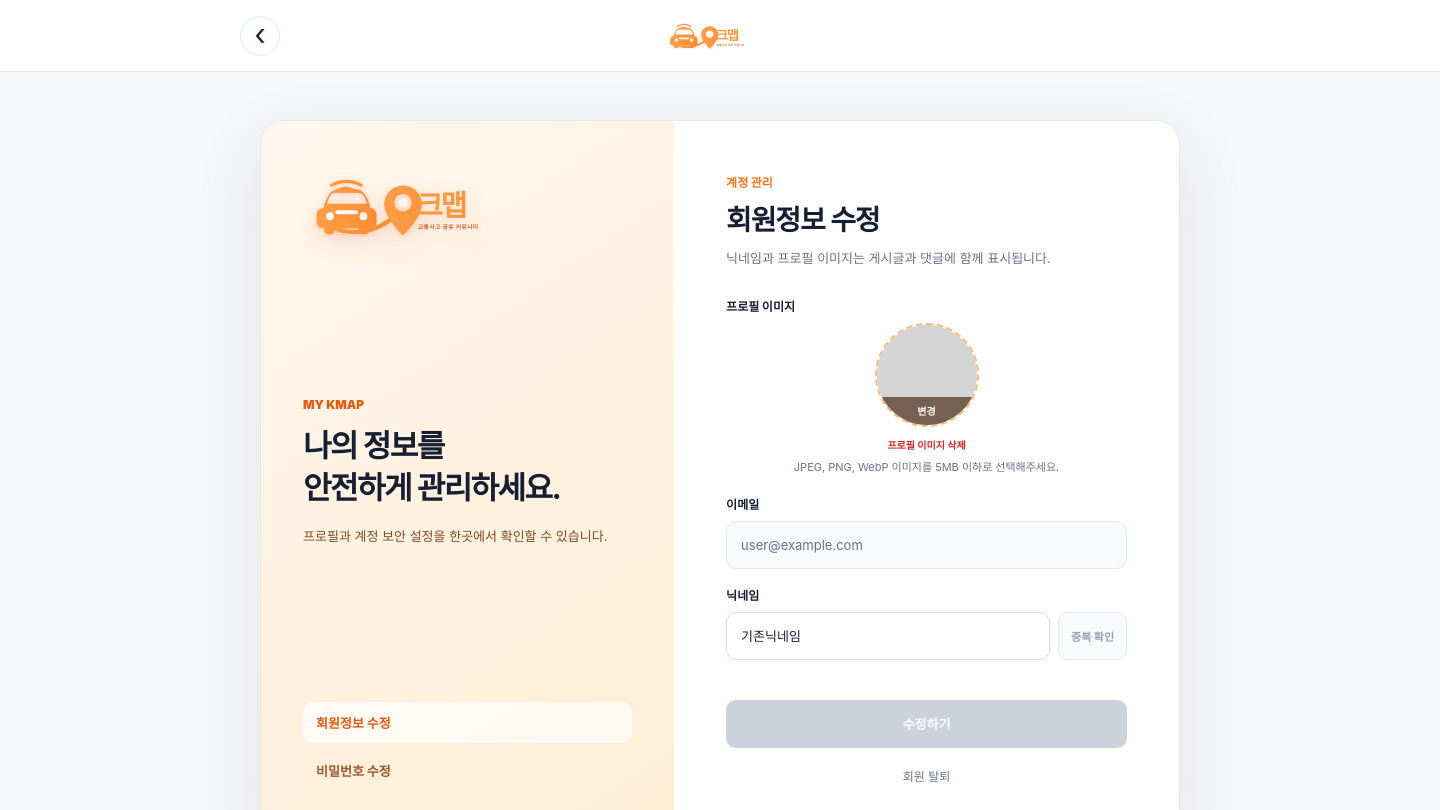
ProfileSettingsPage › 중복 확인 없이 폼을 제출하면 확인 안내를 표시한다
Replace the text in the field labelled "닉네임" with "확인필요" at (888, 636), box [726,612,1050,660]
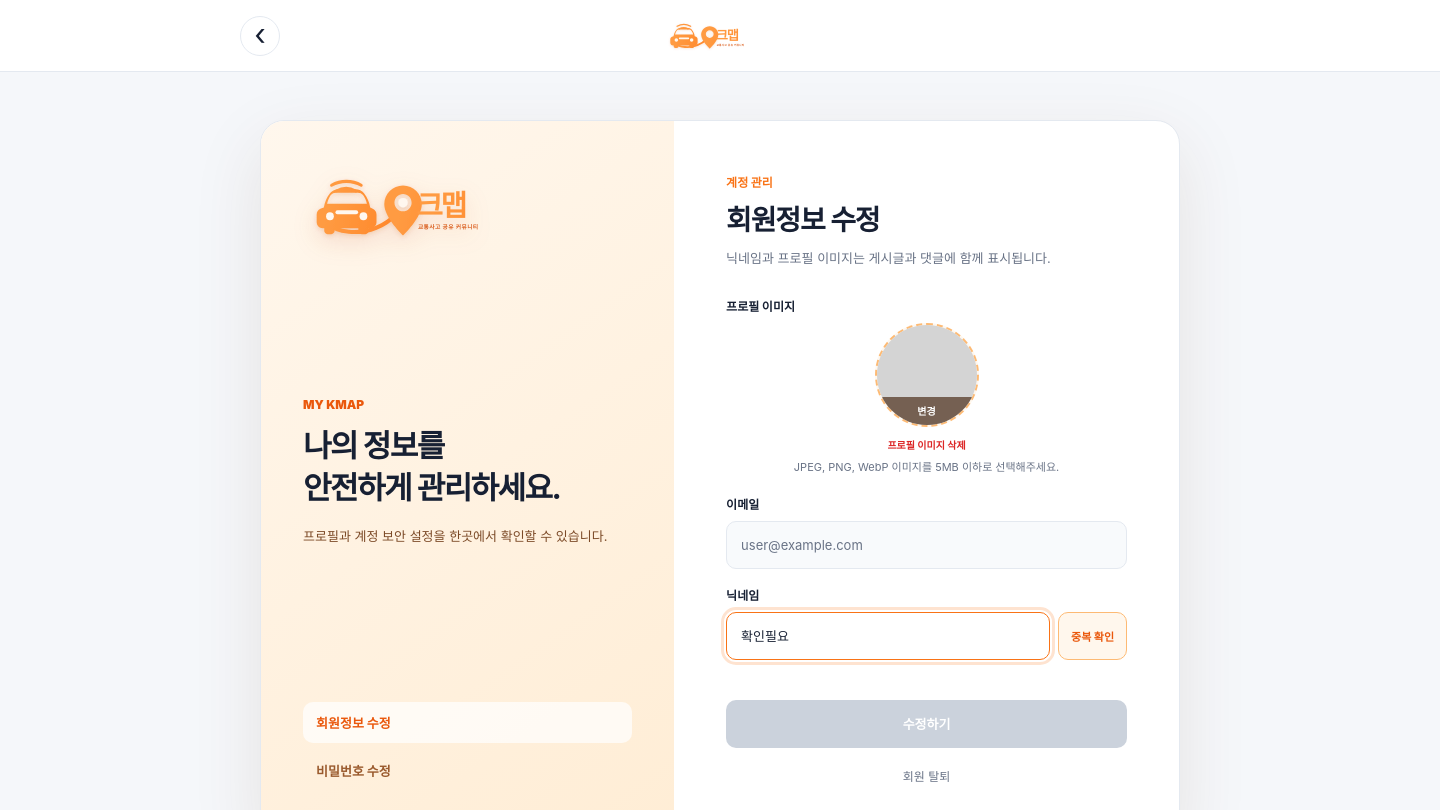
Submit the form named "닉네임", box [726,297,1127,748]
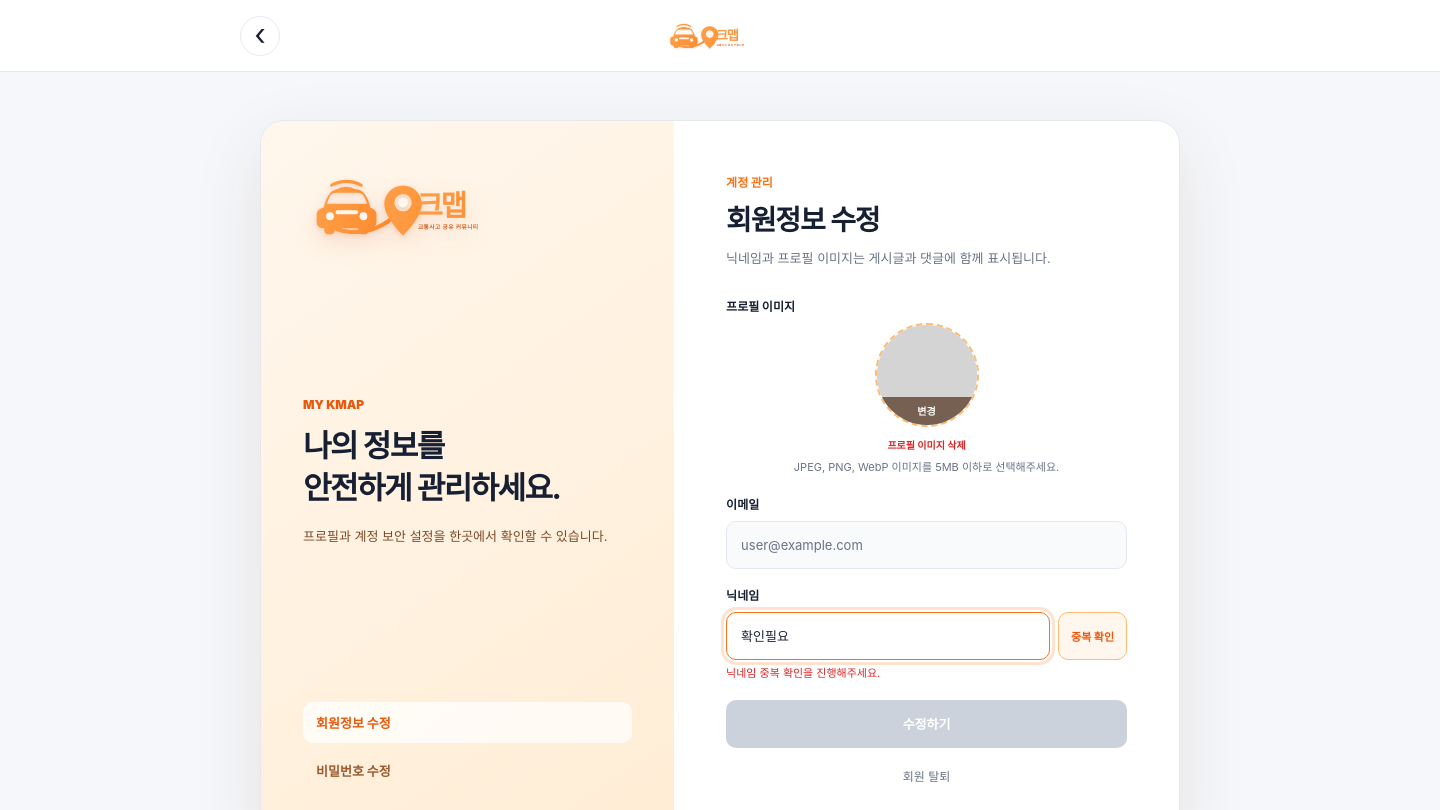
expect the text "닉네임 중복 확인을 진행해주세요." is shown: met, box [726,666,880,680]
